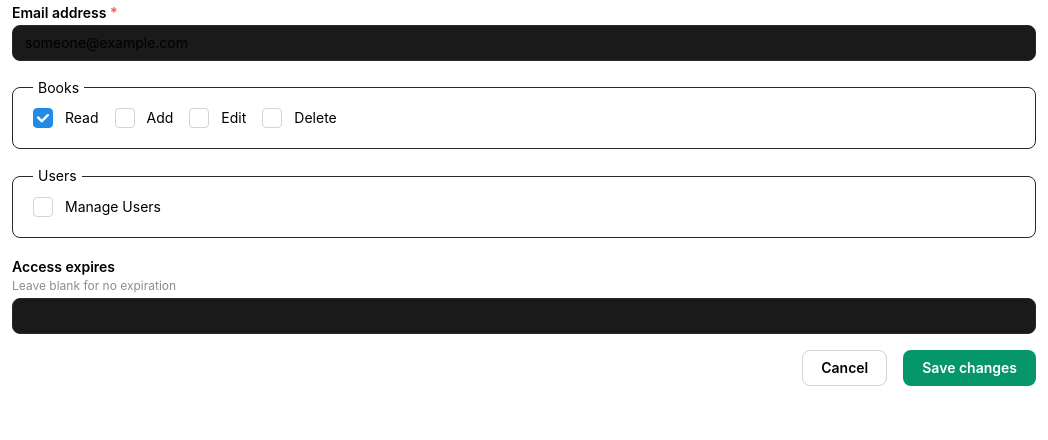
Scenario: PermissionForm › surfaces the server's error message on a failed save
Click the button "Save changes". click: (970, 368)
box: [903,350,1036,386]
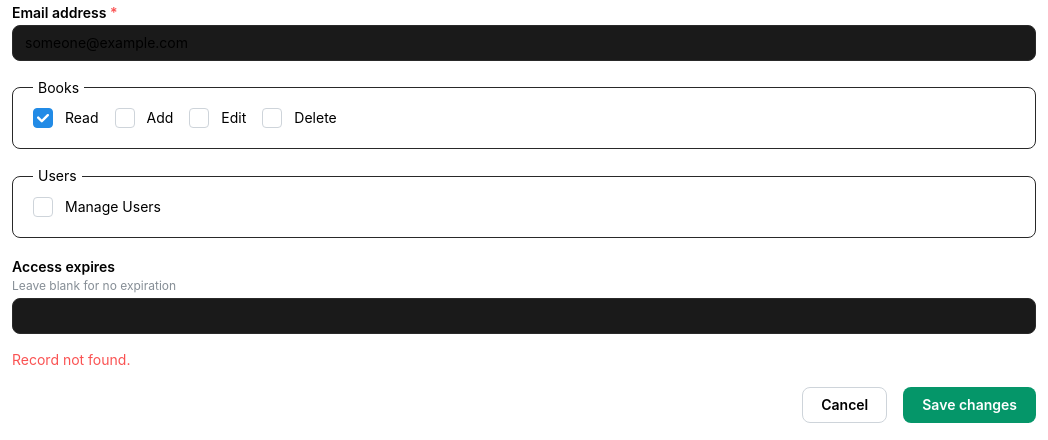
Check: the text "Record not found." is shown, box [12,351,130,368]
